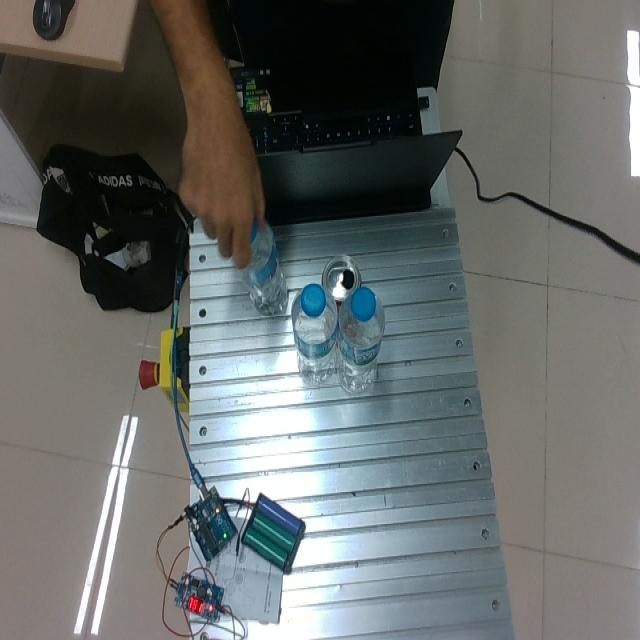coca: (321, 255, 362, 309)
lavie: (337, 285, 385, 395), (292, 286, 339, 386), (240, 218, 287, 314)
